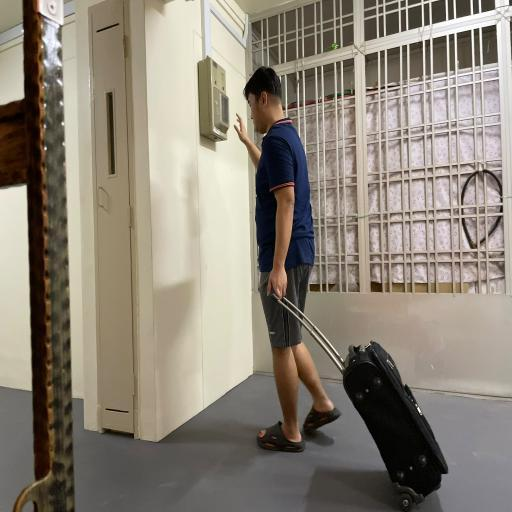person_left: (226, 56, 454, 500)
